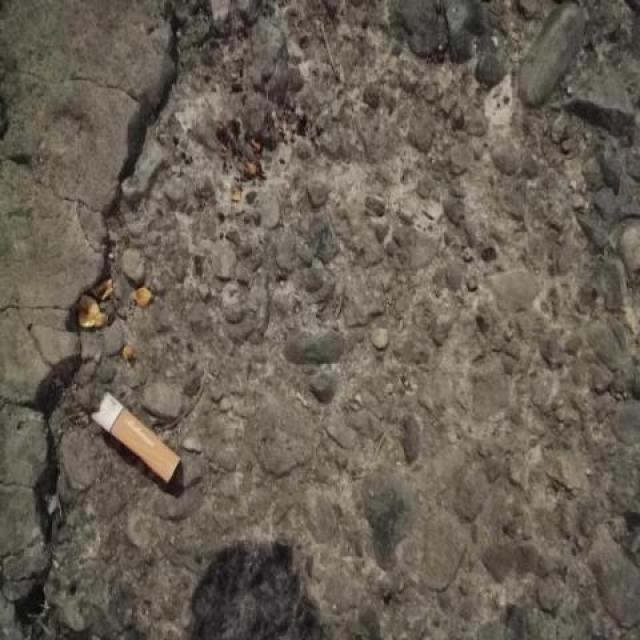non-organic waste: (85, 387, 184, 489)
